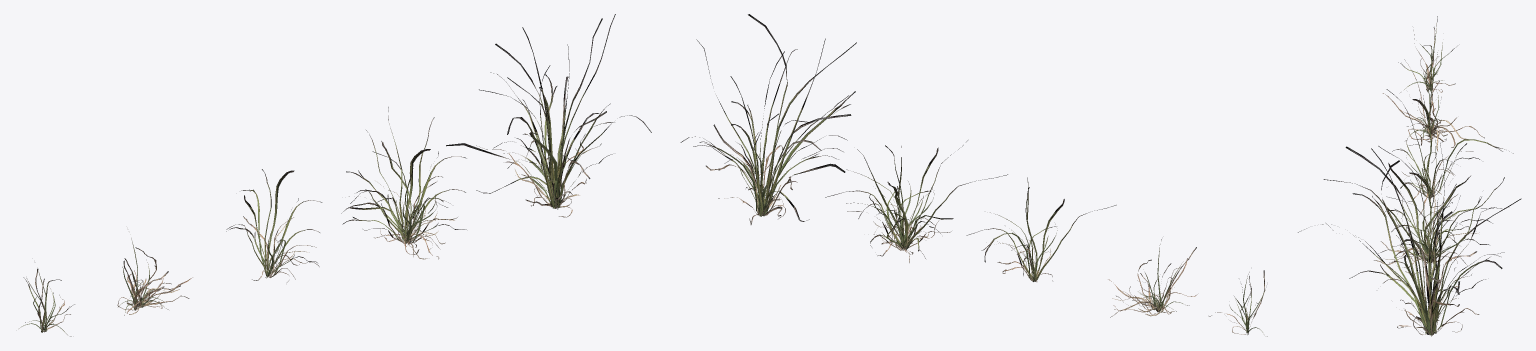
File: grass_medium_02.glb
3 renders of one model, left to right at view 1: azimuth 30°, elevation 25°; view 2: azimuth 150°, elevation 25°; view 3: azimuth 270°, elevation 25°, orthographic. The views are drawn at different scales.
Parts seen in each view (by area): view 1: grass_medium_02_e, grass_medium_02_d, grass_medium_02_c, grass_medium_02_b, grass_medium_02_a; view 2: grass_medium_02_e, grass_medium_02_d, grass_medium_02_c, grass_medium_02_b, grass_medium_02_a; view 3: grass_medium_02_e, grass_medium_02_d, grass_medium_02_c, grass_medium_02_b, grass_medium_02_a.
Part boxes in pixels (bbox=[...]): grass_medium_02_e: bbox=[446, 14, 651, 217]; grass_medium_02_d: bbox=[341, 107, 466, 259]; grass_medium_02_c: bbox=[226, 169, 322, 282]; grass_medium_02_b: bbox=[117, 238, 192, 315]; grass_medium_02_a: bbox=[19, 268, 74, 336]; grass_medium_02_e: bbox=[680, 14, 856, 224]; grass_medium_02_d: bbox=[825, 140, 1007, 262]; grass_medium_02_c: bbox=[966, 177, 1116, 281]; grass_medium_02_b: bbox=[1108, 239, 1197, 317]; grass_medium_02_a: bbox=[1209, 270, 1267, 336]; grass_medium_02_e: bbox=[1298, 143, 1521, 336]; grass_medium_02_d: bbox=[1323, 143, 1504, 273]; grass_medium_02_c: bbox=[1386, 89, 1513, 214]; grass_medium_02_b: bbox=[1382, 52, 1484, 151]; grass_medium_02_a: bbox=[1398, 16, 1455, 92].
Bounding box in the file's own units: 1.31 × 0.4053 × 0.4332.
Materials: 1 (1 with a texture image).
